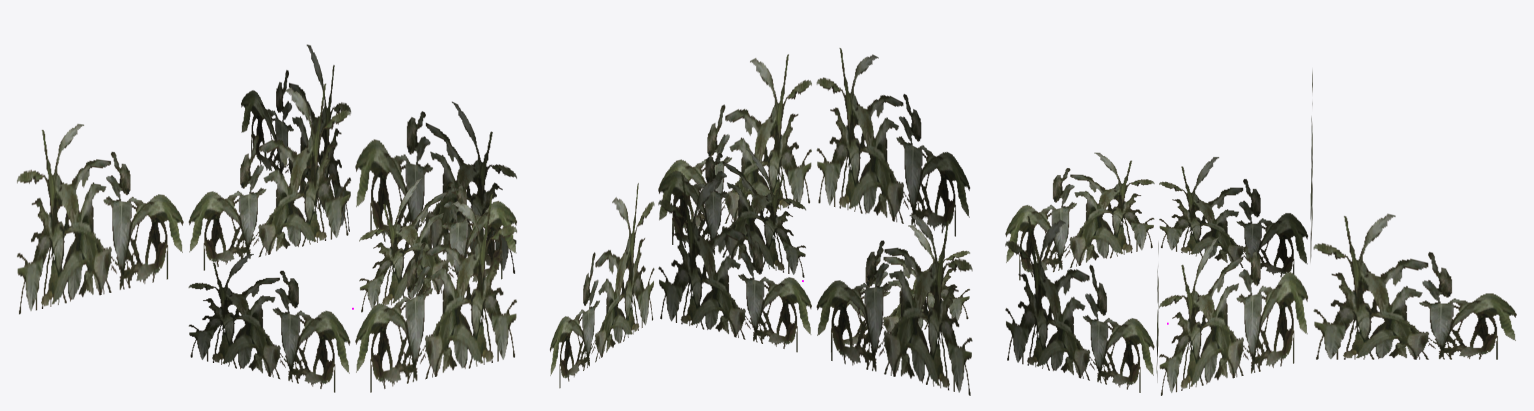
File: mveg3a.glb
3 renders of one model, left to right at view 1: azimuth 30°, elevation 25°; view 2: azimuth 150°, elevation 25°; view 3: azimuth 270°, elevation 25°, orthographic. The views are drawn at different scales.
Parts seen in each view (by area): view 1: 01 Mesh0; view 2: 01 Mesh0; view 3: 01 Mesh0.
Boxes of the visible parts, bbox=[...] form: 01 Mesh0: bbox=[17, 44, 516, 392]; 01 Mesh0: bbox=[550, 48, 972, 395]; 01 Mesh0: bbox=[1005, 71, 1516, 395].
Size of the model in its own units: 4.74 by 2.26 by 5.47.
Materials: 2 (1 with a texture image).
